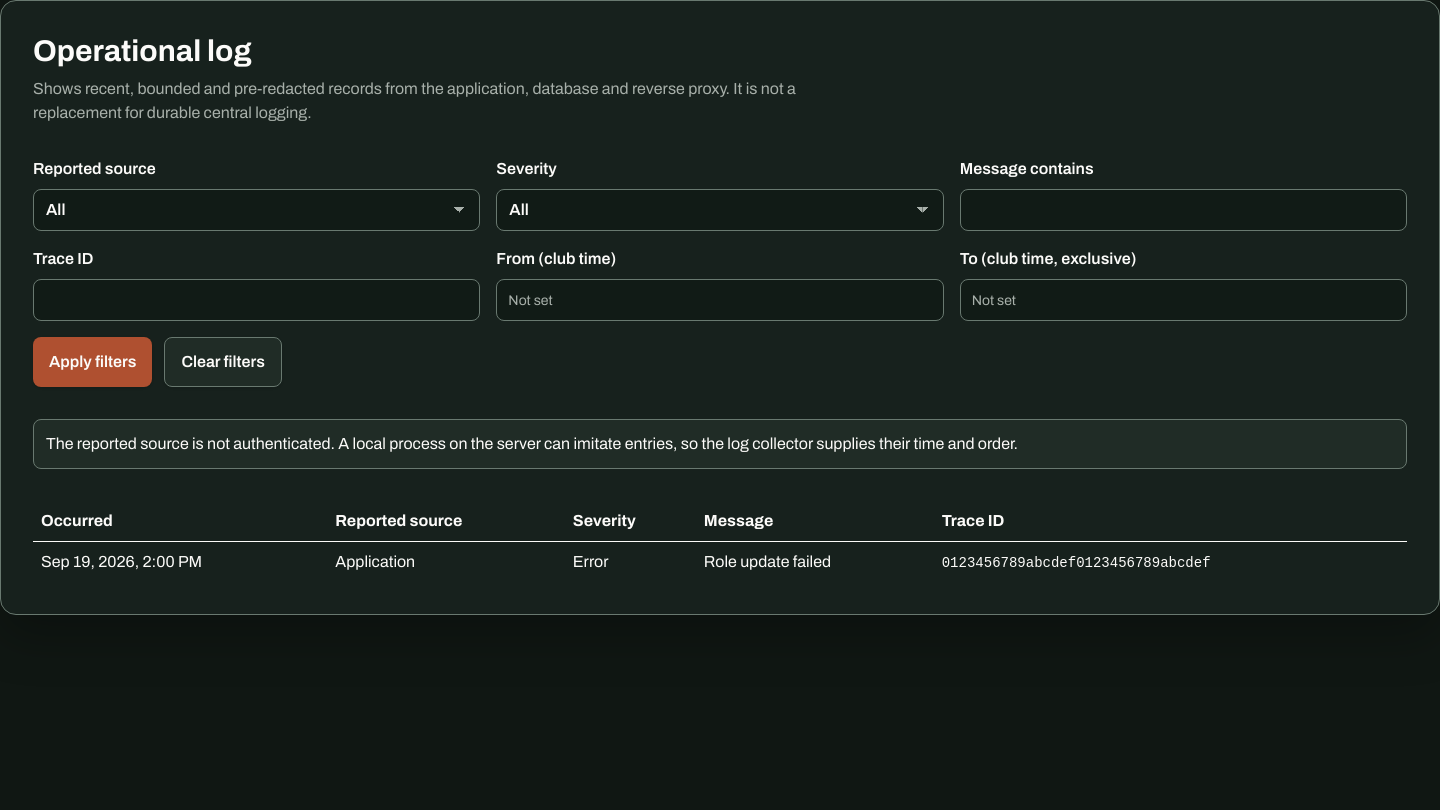
AdminOperationalLogsView › refuses a wall-clock time that does not exist in the club time zone
Expected: the row with test id "operational-log-row" is shown, [33,542,1407,582]
Type "2026-03-29T02:30" into the field with test id "operational-log-from-filter" at point(720, 300), box [496,279,944,321]
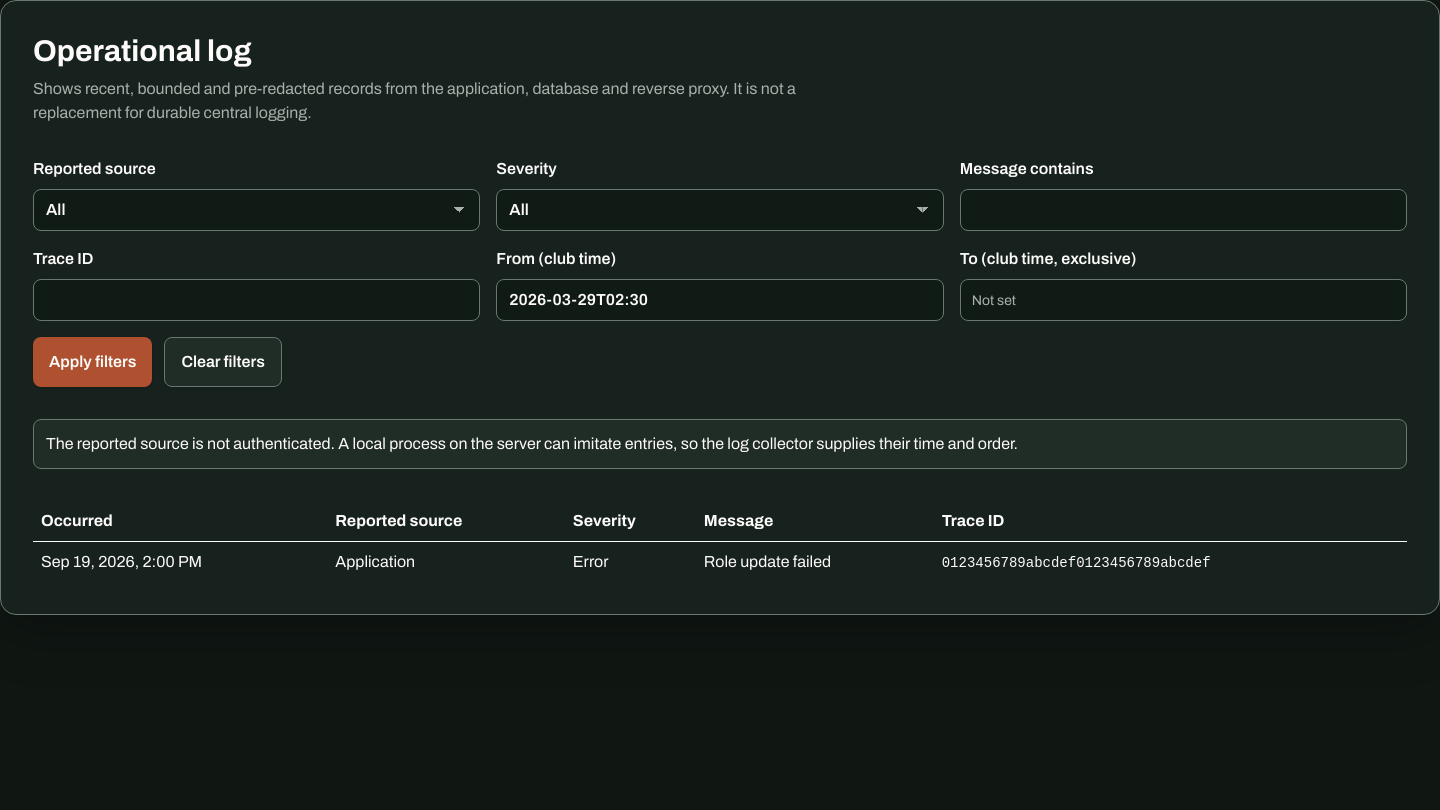
Click the button with test id "operational-log-apply" at point(93, 362), box [33,337,152,387]
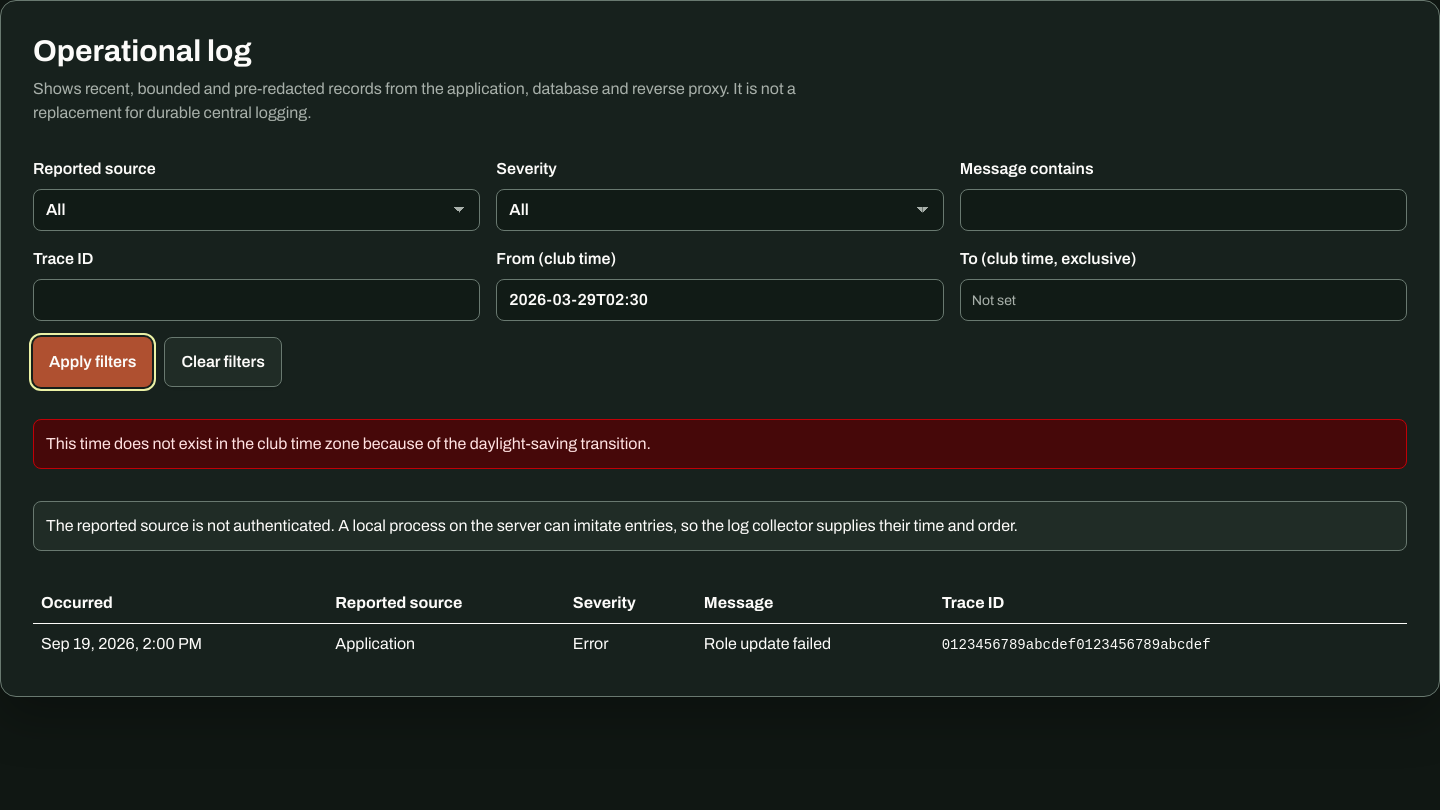
Expected: the row with test id "operational-log-row" is shown, [33,624,1407,664]
Now the message with test id "operational-logs-filter-refused" shows "does not exist in the club time zone", box [46,435,651,452]
